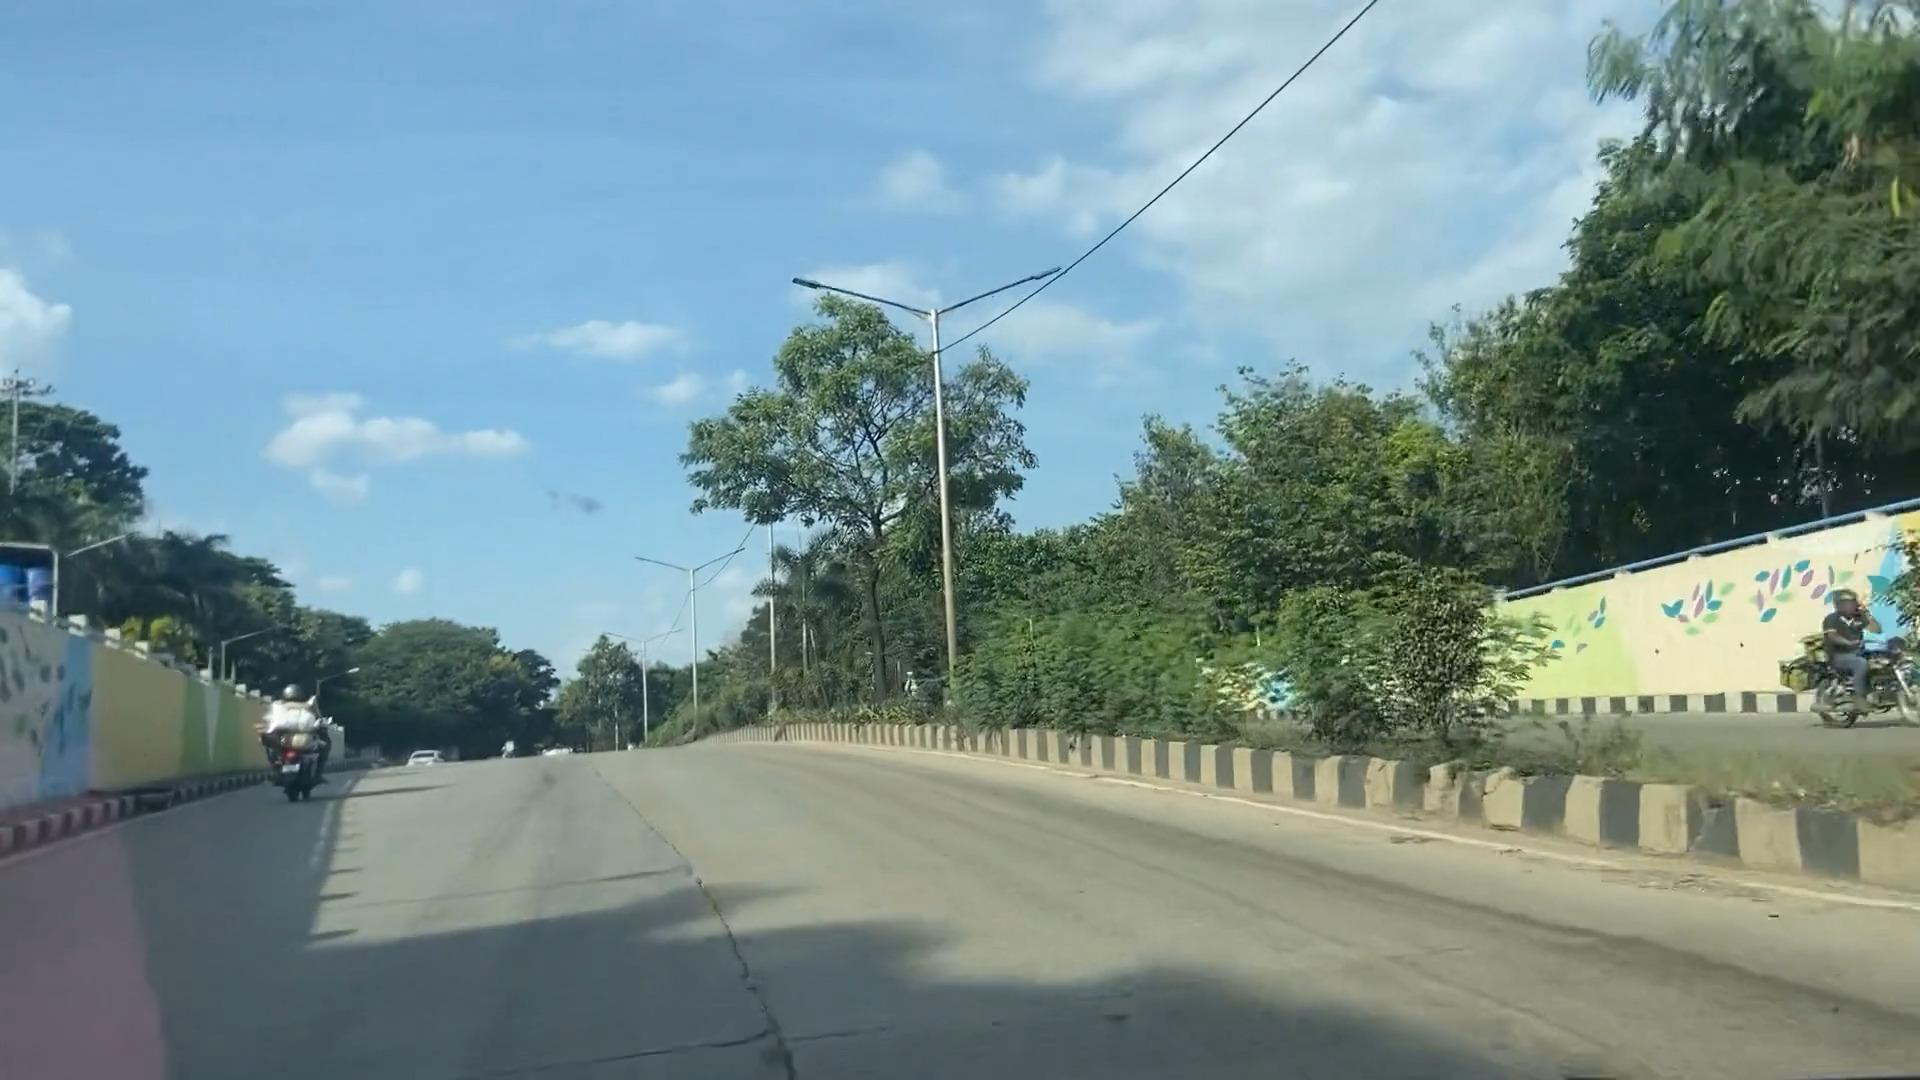RoadDamages: (668, 993, 903, 1080), (580, 839, 734, 911)
